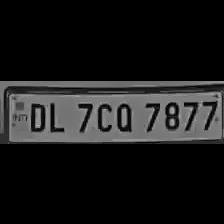7: (136, 96, 160, 132), (70, 99, 93, 134), (196, 96, 218, 130), (180, 96, 198, 132)
8: (160, 97, 180, 131)
C: (93, 98, 113, 132)
D: (25, 98, 48, 132)
L: (44, 97, 68, 133)
Q: (113, 98, 136, 132)
